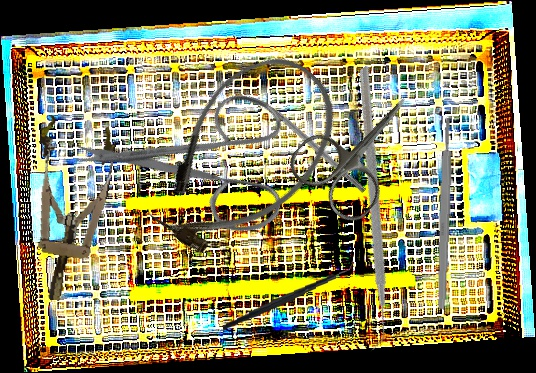Cannula: (124, 32, 363, 279)
Chopper: (227, 65, 505, 356), (217, 257, 359, 332)
Hook Surgical: (256, 92, 368, 194)
Iris Scissors: (65, 40, 327, 296), (282, 68, 441, 229)
Scalpel Handle: (436, 117, 454, 310)
Speculum: (15, 114, 119, 306)
